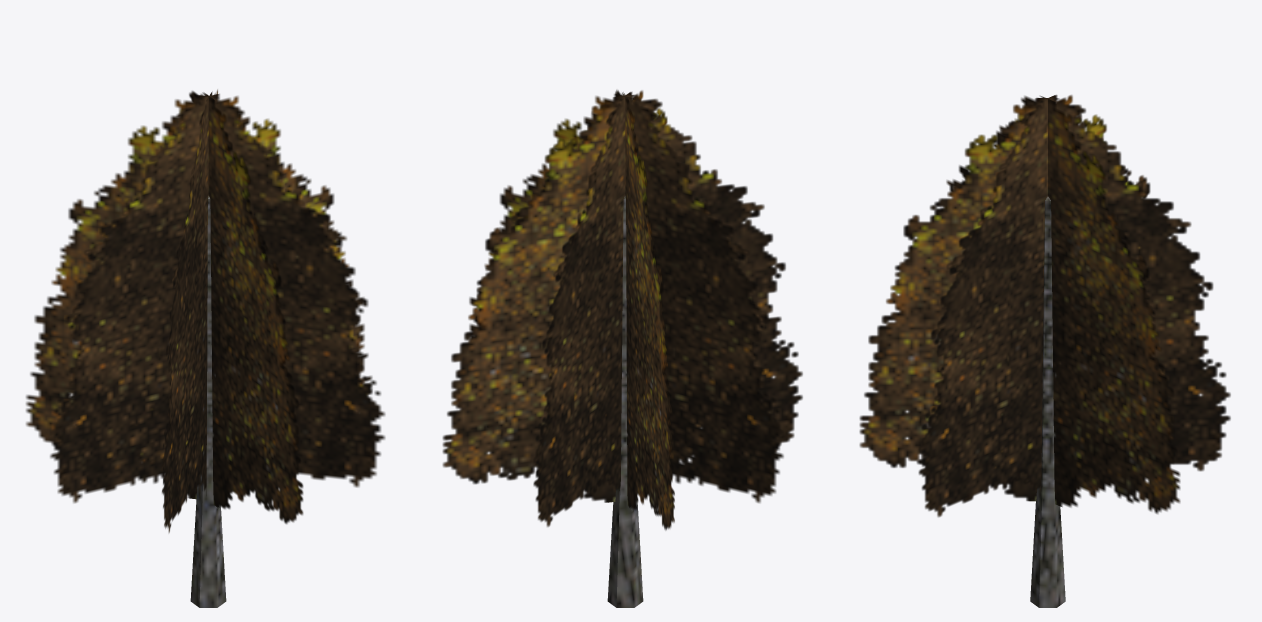
Rendered from in_tree.glb.
3 views of the same model, side by side, from view 1: azimuth 30°, elevation 25°; view 2: azimuth 150°, elevation 25°; view 3: azimuth 270°, elevation 25° (orthographic).
Parts seen in each view (by area): view 1: tree33; view 2: tree33; view 3: tree33.
Boxes of the visible parts, bbox=[...] form: tree33: bbox=[26, 89, 385, 607]; tree33: bbox=[442, 90, 802, 607]; tree33: bbox=[859, 95, 1230, 607].
Size of the model in its own units: 9 by 12.5 by 9.
Materials: 1 (1 with a texture image).
